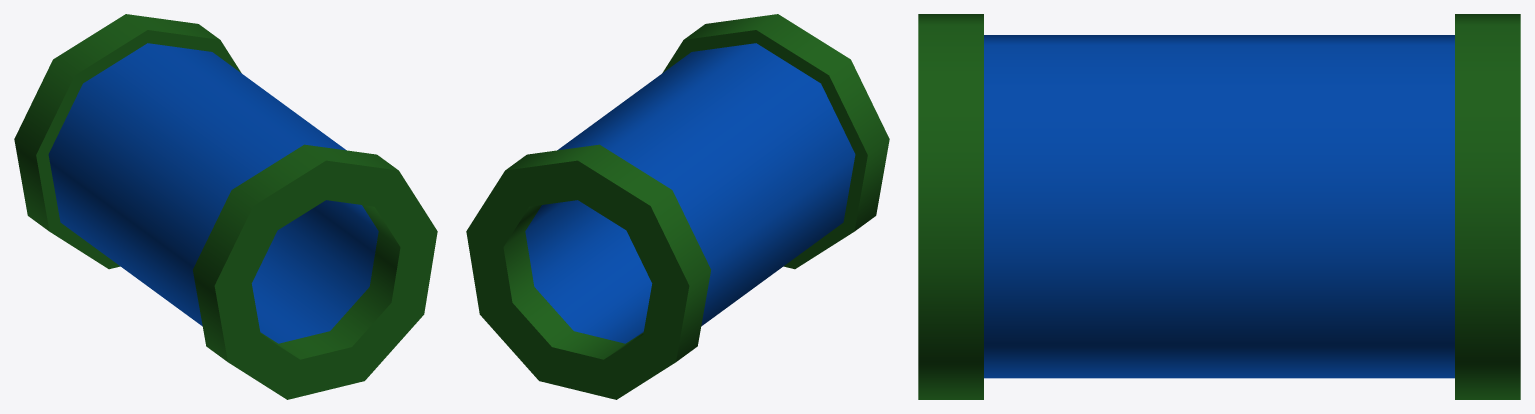
The model's file is Straight pipe.fbx.
3 views of the same model, side by side, from view 1: azimuth 30°, elevation 25°; view 2: azimuth 150°, elevation 25°; view 3: azimuth 270°, elevation 25° (orthographic). The views are drawn at different scales.
Visible parts, largest first — view 1: straight 1; view 2: straight 1; view 3: straight 1.
Boxes of the visible parts, x1,y1,x2,y2 form: straight 1: (14,14,437,399); straight 1: (466,14,889,399); straight 1: (918,14,1520,399).
Size of the model in its own units: 88.63 by 87.29 by 138.
